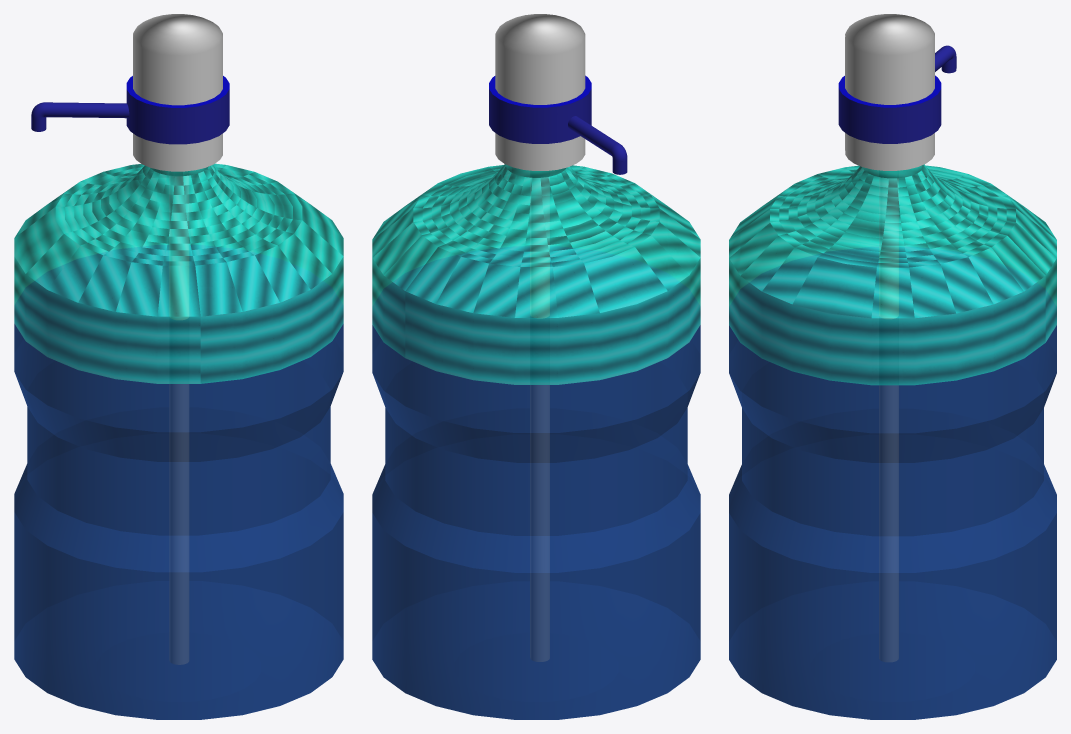
3 renders of one model, left to right at view 1: azimuth 30°, elevation 25°; view 2: azimuth 150°, elevation 25°; view 3: azimuth 270°, elevation 25°, orthographic.
Visible parts, largest first — view 1: mesh16-geometry-0, mesh16-geometry-1, mesh5-geometry-1, mesh5-geometry-0, mesh5-geometry-3, mesh4-geometry-0, mesh1-geometry-0, mesh5-geometry-2; view 2: mesh16-geometry-0, mesh16-geometry-1, mesh5-geometry-1, mesh5-geometry-0, mesh5-geometry-3, mesh4-geometry-0, mesh1-geometry-0, mesh5-geometry-2; view 3: mesh16-geometry-0, mesh16-geometry-1, mesh5-geometry-1, mesh5-geometry-0, mesh5-geometry-3, mesh4-geometry-0, mesh5-geometry-2, mesh1-geometry-0.
Part boxes in pixels (box(x1,y1,x2,y2)): mesh16-geometry-0: box(14, 245, 343, 719); mesh16-geometry-1: box(14, 163, 343, 383); mesh5-geometry-1: box(169, 176, 188, 664); mesh5-geometry-0: box(133, 39, 222, 171); mesh5-geometry-3: box(126, 89, 229, 144); mesh4-geometry-0: box(133, 14, 222, 55); mesh1-geometry-0: box(31, 102, 129, 131); mesh5-geometry-2: box(126, 76, 229, 107); mesh16-geometry-0: box(372, 247, 700, 719); mesh16-geometry-1: box(372, 164, 700, 384); mesh5-geometry-1: box(530, 177, 549, 661); mesh5-geometry-0: box(495, 39, 585, 170); mesh5-geometry-3: box(489, 89, 591, 143); mesh4-geometry-0: box(495, 14, 585, 55); mesh1-geometry-0: box(568, 116, 627, 174); mesh5-geometry-2: box(489, 75, 591, 107); mesh16-geometry-0: box(729, 247, 1056, 719); mesh16-geometry-1: box(729, 164, 1056, 385); mesh5-geometry-1: box(845, 36, 898, 661); mesh5-geometry-0: box(845, 39, 934, 170); mesh5-geometry-3: box(838, 88, 941, 143); mesh4-geometry-0: box(845, 14, 934, 55); mesh5-geometry-2: box(838, 75, 941, 107); mesh1-geometry-0: box(935, 45, 956, 73).
Bounding box in the file's own units: 0.3874 × 0.8366 × 0.3874.
